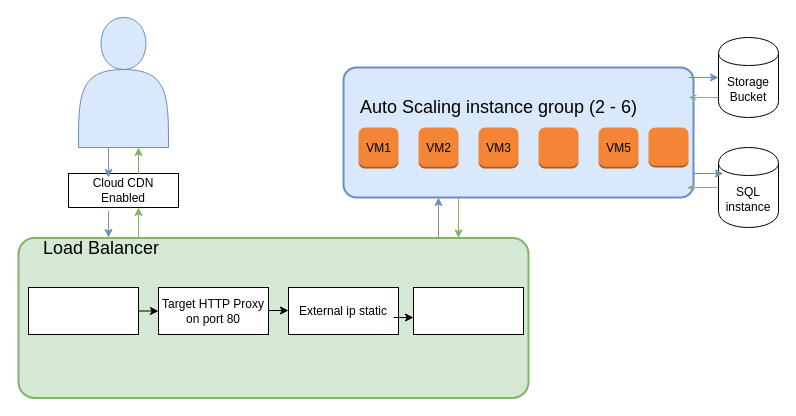
The diagram is 796 pixels wide and 416 high, and some of its shapes have lost their labels. Each missing label, with the box of its shape:
BackEnd Service: (412, 286, 524, 334)
IPV4 Forwarding Rule: (28, 286, 138, 334)
IPV4 Users: (78, 16, 168, 148)
VM4: (538, 126, 578, 168)
VM6: (648, 126, 688, 168)
